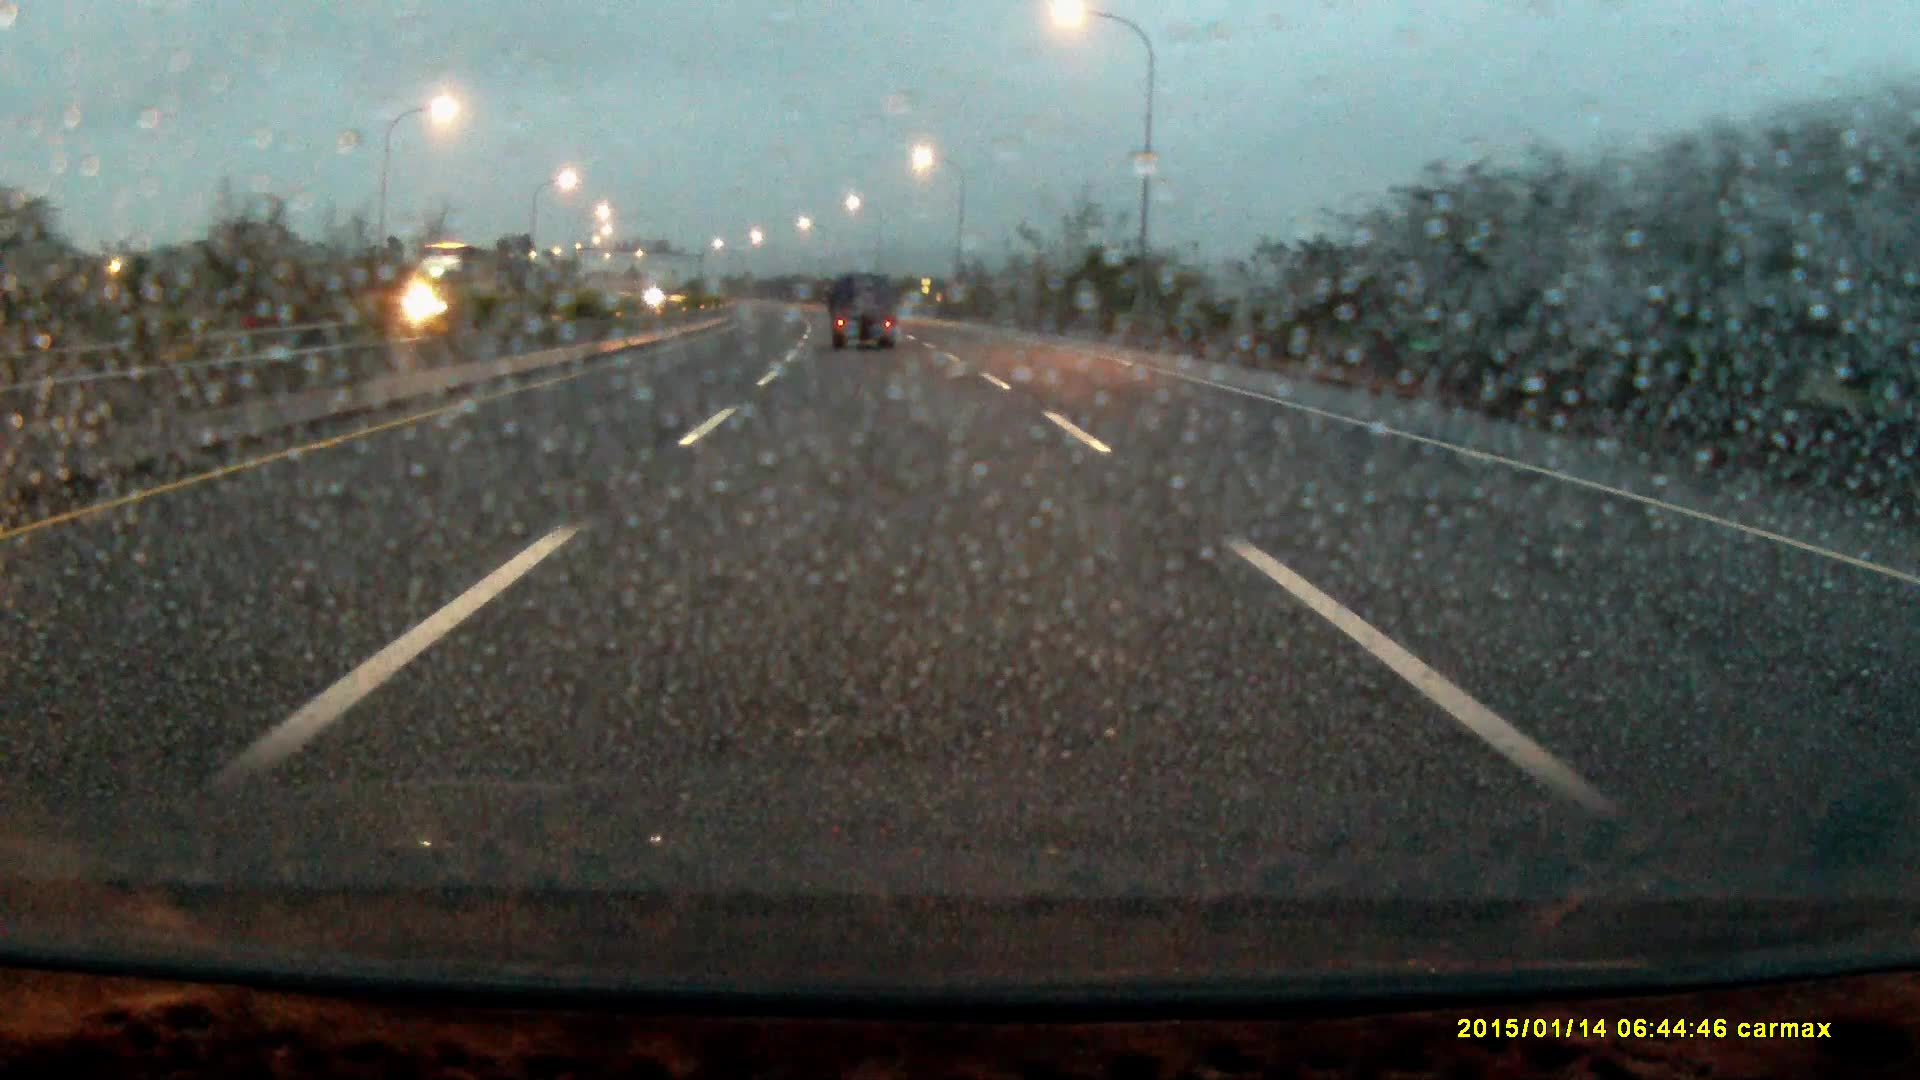vehicle: (400, 240, 520, 335), (831, 272, 902, 349)
